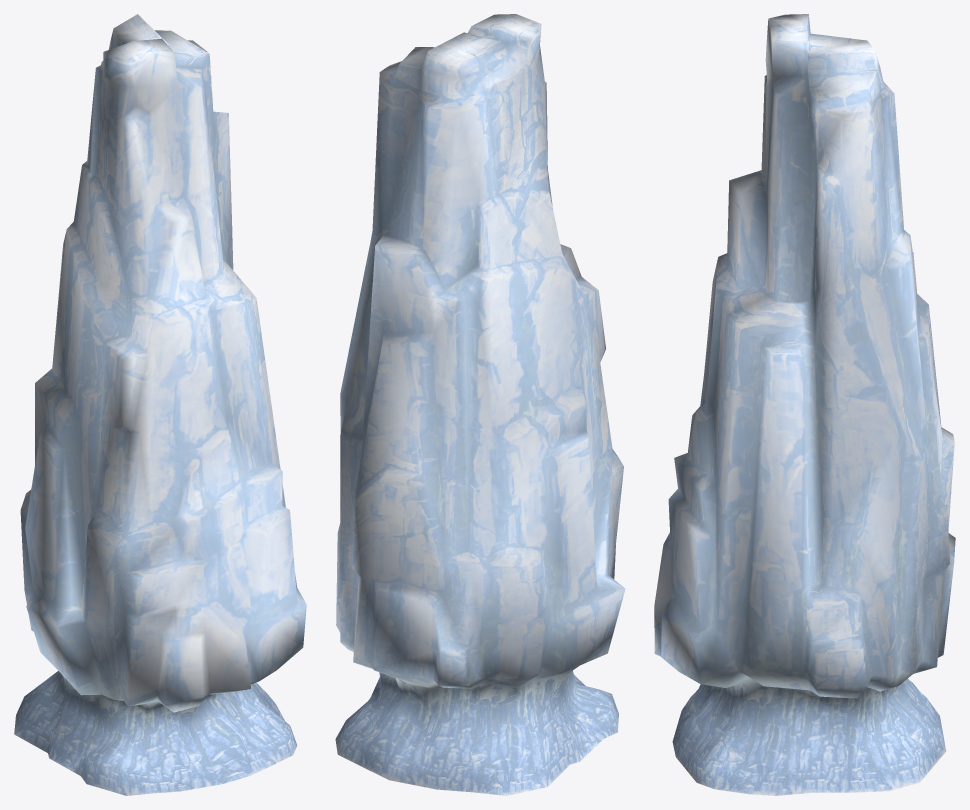
The model's file is bel_env_spire_02.glb.
3 renders of one model, left to right at view 1: azimuth 30°, elevation 25°; view 2: azimuth 150°, elevation 25°; view 3: azimuth 270°, elevation 25°, orthographic.
Visible parts, largest first — view 1: bel_env_spire_02; view 2: bel_env_spire_02; view 3: bel_env_spire_02.
Boxes of the visible parts, x1=… form: bel_env_spire_02: x1=14, y1=14, x2=306, y2=795; bel_env_spire_02: x1=335, y1=14, x2=625, y2=795; bel_env_spire_02: x1=654, y1=14, x2=955, y2=795.
Bounding box in the file's own units: 3.63 × 10.26 × 3.96.
Materials: 2 (2 with a texture image).
